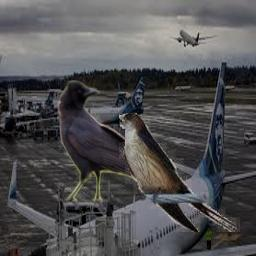Crow: (57, 80, 158, 210)
Swallow: (119, 113, 240, 232)
